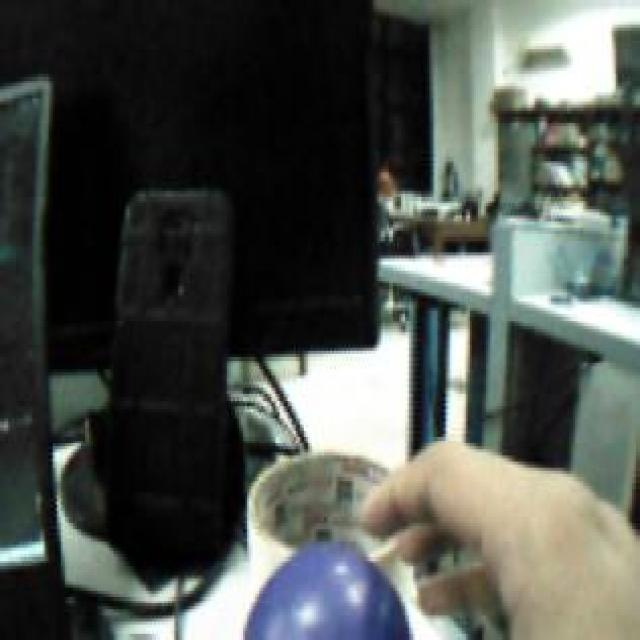BallPurple: (243, 542, 412, 640)
